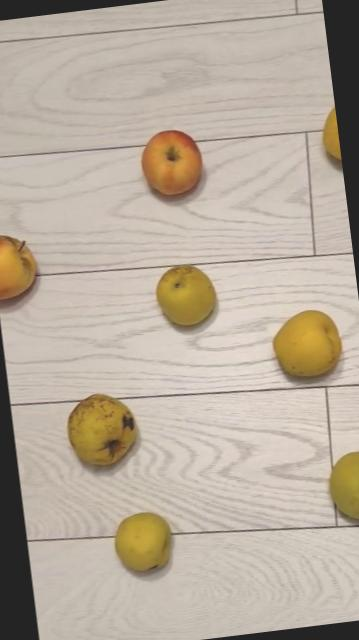apple_green: (62, 388, 140, 468), (266, 306, 344, 380), (151, 260, 218, 328), (110, 506, 175, 574), (323, 448, 359, 523), (317, 101, 341, 165)
apple_red: (136, 125, 206, 198), (0, 230, 38, 299)
